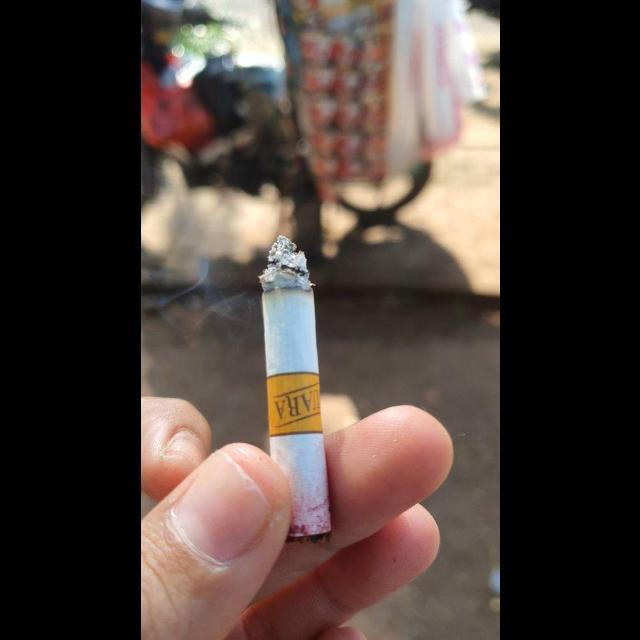rokok: (249, 230, 345, 548)
